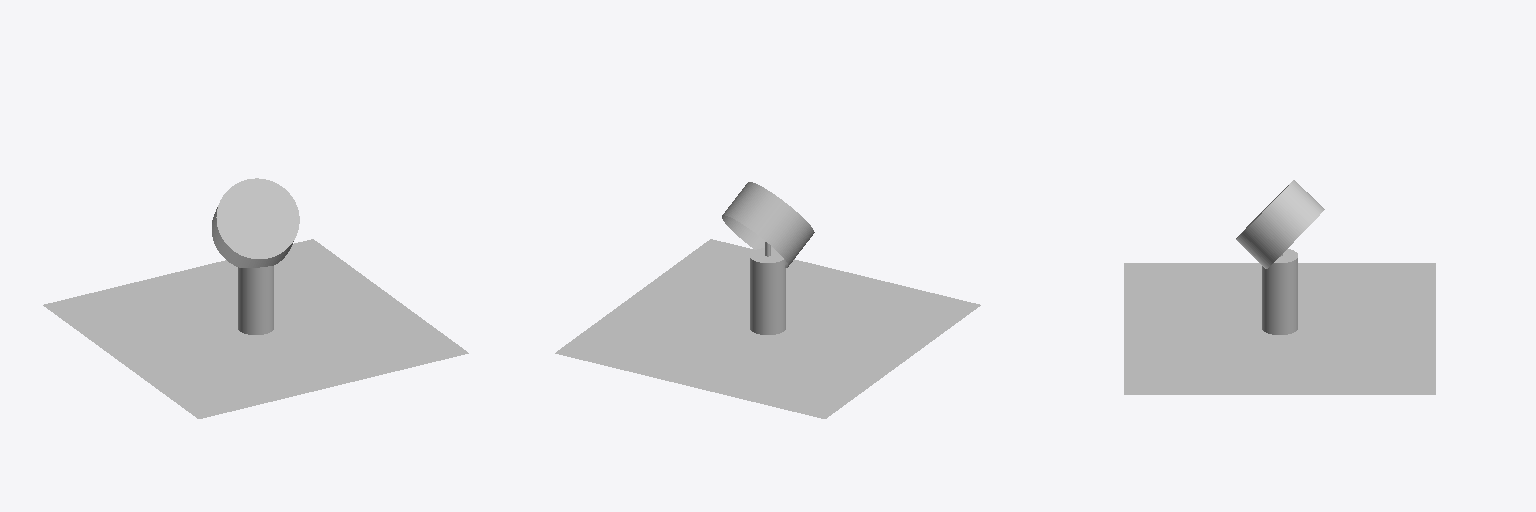
Rendered from lamp21.obj.
3 renders of one model, left to right at view 1: azimuth 30°, elevation 25°; view 2: azimuth 150°, elevation 25°; view 3: azimuth 270°, elevation 25°, orthographic.
Parts seen in each view (by area): view 1: Plane, Cylinder.002, Cylinder; view 2: Plane, Cylinder.002, Cylinder, Cylinder.001; view 3: Plane, Cylinder.002, Cylinder.
Part boxes in pixels (x1,y1,x2,y2): Plane: (43, 239, 468, 418); Cylinder.002: (212, 178, 299, 267); Cylinder: (238, 266, 273, 334); Plane: (555, 239, 980, 418); Cylinder.002: (722, 182, 814, 267); Cylinder: (750, 265, 785, 334); Cylinder.001: (750, 241, 785, 269); Plane: (1124, 263, 1435, 394); Cylinder.002: (1236, 180, 1324, 268); Cylinder: (1262, 265, 1297, 334).
Bounding box in the file's own units: 17.18 × 8.87 × 17.18.